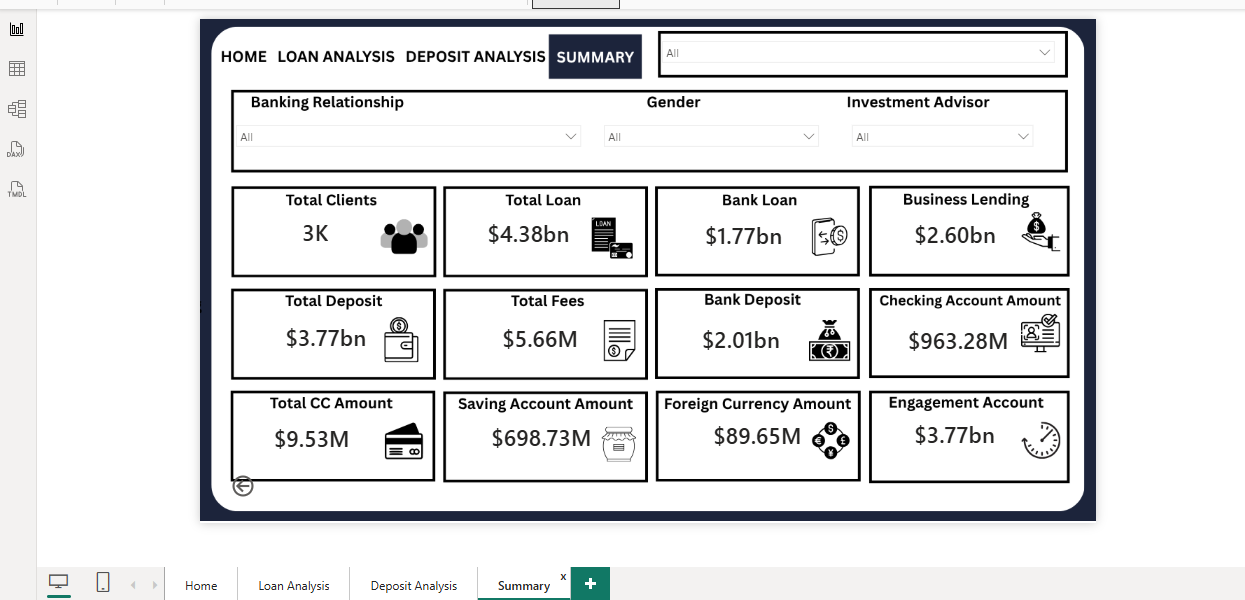

What the dashboard file says about the page in this screenshot:
{"tool":"powerbi","page":{"name":"Summary","canvas":[1280,720],"ordinal":3},"visuals":[{"type":"slicer","fields":{"Values":["public customers.joined_bank.Variation.Date Hierarchy.Year"]},"box":[650.6,21.3,581.1,56.7],"z":0},{"type":"cardVisual","fields":{"Data":["public customers.total loan"]},"box":[405.4,262.2,189.9,68],"z":1000},{"type":"cardVisual","fields":{"Data":["Sum(public customers.bank_loans)"]},"box":[704.4,280.6,206.9,66.6],"z":2000},{"type":"cardVisual","fields":{"Data":["Sum(public customers.credit_card_balance)"]},"box":[87.9,566.9,209.8,69.4],"z":3000},{"type":"cardVisual","fields":{"Data":["Sum(public customers.business_lending)"]},"box":[992.1,277.8,208.3,80.8],"z":4000},{"type":"cardVisual","fields":{"Data":["public customers.Total Deposits"]},"box":[116.7,412,190,68.7],"z":5000},{"type":"cardVisual","fields":{"Data":["Sum(public customers.bank_deposits)"]},"box":[700,428,345.3,66],"z":6000},{"type":"cardVisual","fields":{"Data":["Sum(public customers.checking_accounts)"]},"box":[993.8,426.2,207.5,70],"z":7000},{"type":"cardVisual","fields":{"Data":["Sum(public customers.saving_accounts)"]},"box":[386.9,566.9,208.3,80.8],"z":8000},{"type":"cardVisual","fields":{"Data":["Sum(public customers.foreign_currency_account)"]},"box":[704.4,517.3,189.9,150.2],"z":9000},{"type":"cardVisual","fields":{"Data":["public customers.Engagement Account"]},"box":[992.1,557,216.9,69.4],"z":10000},{"type":"cardVisual","fields":{"Data":["public customers.count"]},"box":[116.7,271.7,181.7,83.3],"z":11000},{"type":"cardVisual","fields":{"Data":["public customers.Total Fees"]},"box":[403.3,378.3,203.3,150],"z":12000},{"type":"slicer","fields":{"Values":["public customers.genderid"]},"box":[567.1,141.4,327.1,57.1],"z":13000},{"type":"slicer","fields":{"Values":["public customers.brid"]},"box":[41.4,141.4,512.9,57.1],"z":14000},{"type":"slicer","fields":{"Values":["public customers.iaid"]},"box":[921.3,141.7,279.2,56.7],"z":15000},{"type":"actionButton","box":[24.3,37.1,74.3,40],"z":16000},{"type":"actionButton","box":[505.7,37.1,122.9,40],"z":17000},{"type":"actionButton","box":[288.6,37.1,205.7,40],"z":18000},{"type":"actionButton","box":[110,37.1,170,40],"z":19000},{"type":"actionButton","box":[41.4,647.1,100,40],"z":20000}]}

Visuals, with their boxes on the page's 1280x720 design canvas (x1, y1, x2, y2). These are canvas units, not pixel positions in the 1245x600 screenshot, which may show the page scaled, cropped or inside an application window:
slicer - public customers.joined_bank.Variation.Date Hierarchy.Year: 651,21,1232,78
cardVisual - public customers.total loan: 405,262,595,330
cardVisual - Sum(public customers.bank_loans): 704,281,911,347
cardVisual - Sum(public customers.credit_card_balance): 88,567,298,636
cardVisual - Sum(public customers.business_lending): 992,278,1200,359
cardVisual - public customers.Total Deposits: 117,412,307,481
cardVisual - Sum(public customers.bank_deposits): 700,428,1045,494
cardVisual - Sum(public customers.checking_accounts): 994,426,1201,496
cardVisual - Sum(public customers.saving_accounts): 387,567,595,648
cardVisual - Sum(public customers.foreign_currency_account): 704,517,894,668
cardVisual - public customers.Engagement Account: 992,557,1209,626
cardVisual - public customers.count: 117,272,298,355
cardVisual - public customers.Total Fees: 403,378,607,528
slicer - public customers.genderid: 567,141,894,198
slicer - public customers.brid: 41,141,554,198
slicer - public customers.iaid: 921,142,1200,198
actionButton: 24,37,99,77
actionButton: 506,37,629,77
actionButton: 289,37,494,77
actionButton: 110,37,280,77
actionButton: 41,647,141,687
